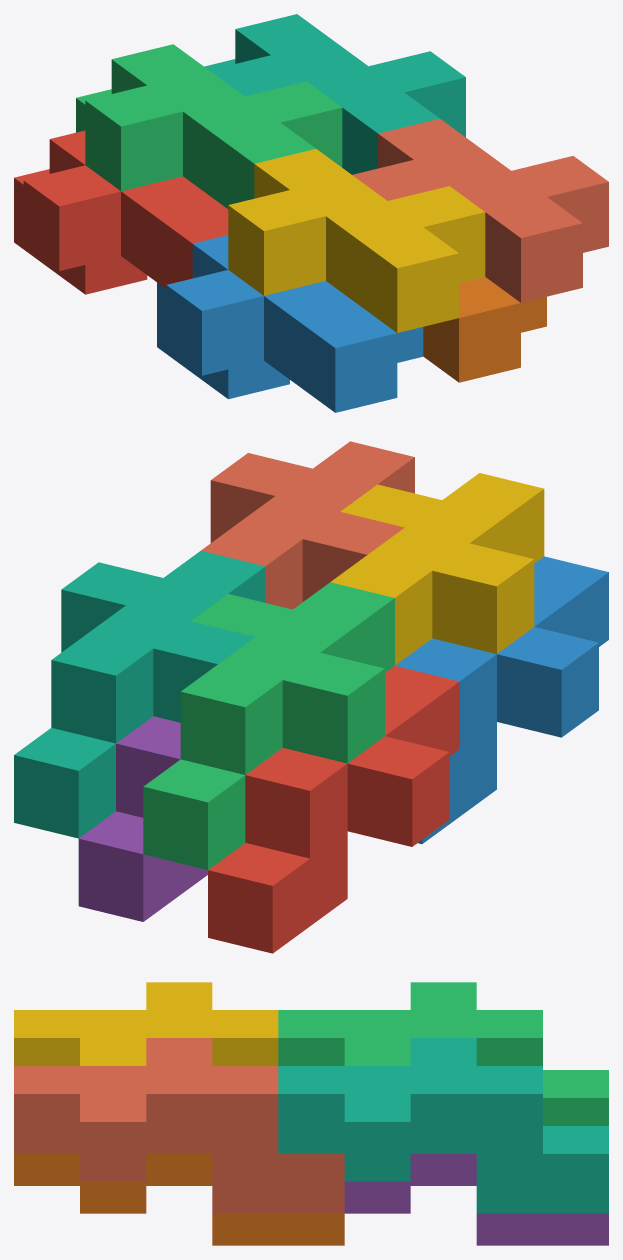
The model's file is tiling.obj.
3 renders of one model, top to bottom at view 1: azimuth 30°, elevation 25°; view 2: azimuth 150°, elevation 25°; view 3: azimuth 270°, elevation 25°, orthographic. The views are drawn at different scales.
Parts seen in each view (by area): view 1: copy_1_domain_4, copy_1_domain_3, copy_1_domain_2, copy_1_domain_8, copy_1_domain_1, copy_1_domain_7, copy_1_domain_6; view 2: copy_1_domain_3, copy_1_domain_1, copy_1_domain_7, copy_1_domain_4, copy_1_domain_2, copy_1_domain_8, copy_1_domain_5; view 3: copy_1_domain_7, copy_1_domain_8, copy_1_domain_3, copy_1_domain_4, copy_1_domain_6, copy_1_domain_5.
Part boxes in pixels (x1,y1,x2,y2): copy_1_domain_4: (228,149,485,332); copy_1_domain_3: (76,44,342,208); copy_1_domain_2: (157,235,423,412); copy_1_domain_8: (352,118,608,302); copy_1_domain_1: (14,130,228,294); copy_1_domain_7: (204,14,465,174); copy_1_domain_6: (423,277,546,382); copy_1_domain_3: (143,582,394,869); copy_1_domain_1: (208,666,459,953); copy_1_domain_7: (14,551,265,838); copy_1_domain_4: (330,473,544,665); copy_1_domain_2: (395,556,608,843); copy_1_domain_8: (201,441,414,609); copy_1_domain_5: (78,716,207,921); copy_1_domain_7: (278,1038,608,1213); copy_1_domain_8: (14,1038,344,1213); copy_1_domain_3: (278,982,608,1125); copy_1_domain_4: (14,982,278,1065); copy_1_domain_6: (14,1154,344,1245); copy_1_domain_5: (344,1154,608,1245).
Size of the model in its own units: 6 by 3 by 9.
